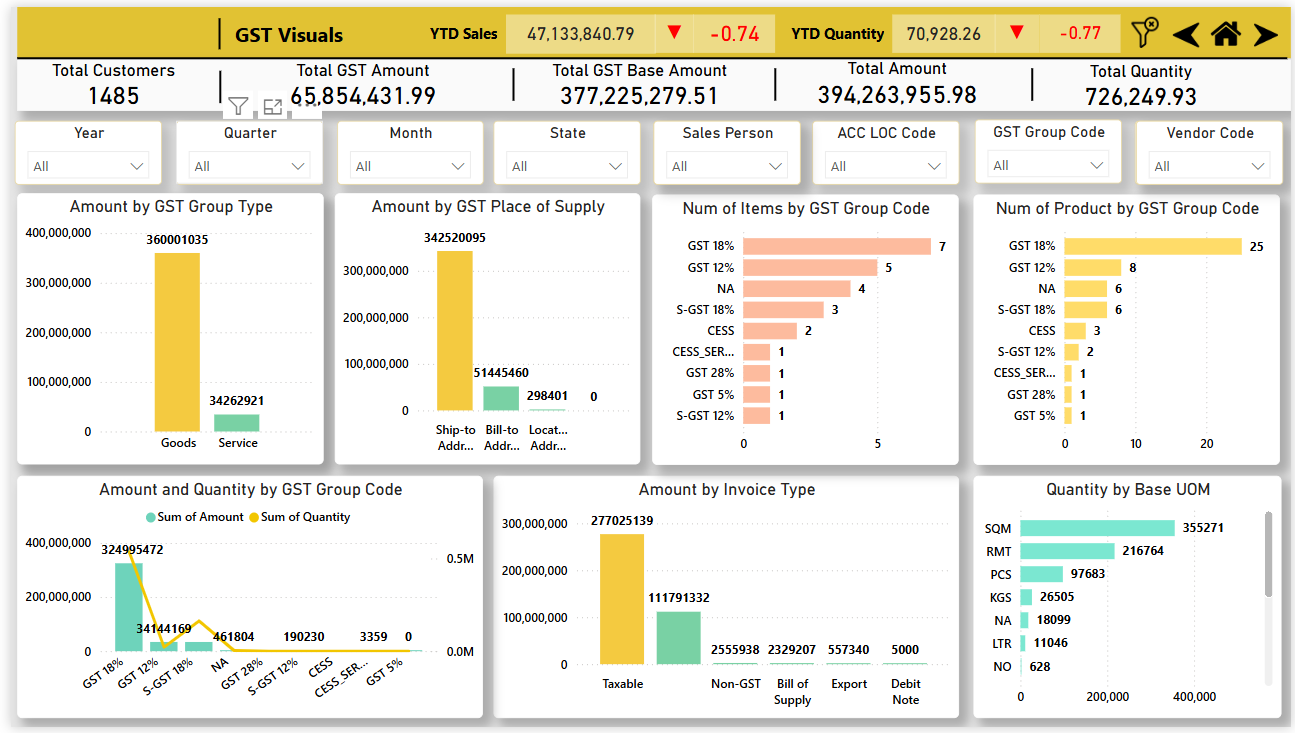

The page's visual inventory and layout, read from the dashboard file:
{"tool":"powerbi","page":{"name":"GST ","canvas":[1280,720],"ordinal":8},"visuals":[{"type":"shape","box":[6.2,0,1273.8,51.2],"z":0},{"type":"shape","box":[6.2,52.5,1273.8,51.2],"z":1000},{"type":"shape","box":[196.6,11.6,24.6,31],"z":2000},{"type":"actionButton","box":[220.3,6.3,205.2,40.3],"z":3000},{"type":"card","fields":{"Values":["Dax.YTD Quantity Indicator"]},"box":[983.8,7.4,44.5,38],"z":3000,"group":"g1"},{"type":"image","box":[1195.1,5.2,40,43.9],"z":4000},{"type":"card","fields":{"Values":["Dax.YTD Sales Indicator"]},"box":[643.6,7.4,39.6,38.4],"z":4000,"group":"g2"},{"type":"image","box":[1156.4,10.3,37.4,36.1],"z":5000},{"type":"card","fields":{"Values":["Dax.YTD Varians in %"]},"box":[682,7.4,81.7,38],"z":5001,"group":"g2"},{"type":"card","fields":{"Values":["Dax.YTD Quantity Variance in %"]},"box":[1028.3,7.4,81,38.4],"z":5002,"group":"g1"},{"type":"image","box":[1235.1,11.6,40,33.6],"z":6000},{"type":"card","title":"Total Amount","fields":{"Values":["Sum(Sales_Data.Amount)"]},"box":[790,51.2,192.5,51.2],"z":7000},{"type":"card","title":"Total Quantity","fields":{"Values":["Sum(Sales_Data.Quantity)"]},"box":[1033.8,53.8,192.5,51.2],"z":8000},{"type":"shape","box":[482.2,61.7,40.3,32.7],"z":9000},{"type":"shape","box":[747.9,61.7,34,32.7],"z":10000},{"type":"shape","box":[192.6,64.2,34,32.7],"z":11000},{"type":"card","title":"Total GST Base Amount","fields":{"Values":["Sum(Sales_Data.GST Base Amount)"]},"box":[532.5,52.5,192.5,51.2],"z":12000},{"type":"slicer","title":"Year","fields":{"Values":["Fiscal Year.Year"]},"box":[3.7,113.7,147.4,63.7],"z":13000},{"type":"slicer","title":"Quarter","fields":{"Values":["Fiscal Year.Quarter"]},"box":[164.9,113.7,147.4,63.7],"z":14000},{"type":"slicer","title":"Month","fields":{"Values":["Fiscal Year.Month"]},"box":[326.1,113.7,146.2,63.7],"z":15000},{"type":"slicer","title":"State","fields":{"Values":["Sales_Data.State"]},"box":[482.2,113.7,147.4,63.7],"z":16000},{"type":"slicer","title":"Product Code","fields":{"Values":["Sales_Data.Product Group Code"]},"box":[642.1,113.7,147.4,63.7],"z":17000},{"type":"slicer","title":"ACC LOC Code","fields":{"Values":["Sales_Data.ACC LOC Code"]},"box":[800.8,113.7,147.4,63.7],"z":18000},{"type":"slicer","title":"GST Group Code","fields":{"Values":["Sales_Data.GST Group Code"]},"box":[963.2,112.4,147.4,63.7],"z":19000},{"type":"slicer","title":"Item Code","fields":{"Values":["Sales_Data.Item Category Code"]},"box":[1124.3,113.7,147.4,63.7],"z":20000},{"type":"card","title":"Total GST Amount","fields":{"Values":["Sum(Sales_Data.Total GST Amount)"]},"box":[255,52.5,193.8,51.2],"z":21000},{"type":"card","title":"Total Customers","fields":{"Values":["Dax.Total Customers"]},"box":[6.2,52.5,192.5,51.2],"z":22000},{"type":"shape","box":[1001,61.7,40.3,32.7],"z":23000},{"type":"columnChart","title":"Amount by GST Group Type","fields":{"Category":["Sales_Data.GST Group Type"],"Y":["Sum(Sales_Data.Amount)"]},"box":[6,186,306.4,271.4],"z":24000},{"type":"columnChart","title":"Amount by GST Place of Supply","fields":{"Category":["Sales_Data.GST Place of Supply"],"Y":["Sum(Sales_Data.Amount)"]},"box":[323.3,186,305.2,271.4],"z":25000},{"type":"columnChart","title":"Amount by Invoice Type","fields":{"Category":["Sales_Data.Invoice Type"],"Y":["Sum(Sales_Data.Amount)"]},"box":[482.6,469.3,465.7,242.5],"z":26000},{"type":"barChart","title":"Num of Items by GST Group Code","fields":{"Y":["Dax.Num of Items"],"Category":["Sales_Data.GST Group Code"]},"box":[641.8,187.2,306.4,270.2],"z":27000},{"type":"barChart","fields":{"Category":["Sales_Data.GST Group Code"],"Y":["Dax.Num of Product"]},"box":[962.7,187.2,306.4,270.2],"z":28000},{"type":"lineStackedColumnComboChart","title":"Amount and Quantity by GST Group Code","fields":{"Category":["Sales_Data.GST Group Code"],"Y":["Sum(Sales_Data.Amount)"],"Y2":["Sum(Sales_Data.Quantity)"]},"box":[6,469.3,465.7,242.5],"z":29000},{"type":"barChart","title":"Quantity by Base UOM","fields":{"Category":["Sales_Data.Base UOM"],"Y":["Sum(Sales_Data.Quantity)"]},"box":[962.7,469.3,307.6,242.5],"z":30000},{"type":"card","fields":{"Values":["Dax.YTD Sales"]},"box":[494.9,7.4,149.7,39.6],"z":31000},{"type":"card","fields":{"Values":["Dax.YTD Quantity"]},"box":[880.7,7.8,103.2,38.7],"z":32000},{"type":"actionButton","box":[414.5,6.2,80.4,39.6],"z":33000},{"type":"actionButton","box":[776.4,6.3,102.7,39.6],"z":34000},{"type":"group","id":"g1","title":"Group 1","box":[983.8,7.4,125.5,38.4],"z":35000},{"type":"group","id":"g2","title":"Group 2","box":[643.6,7.4,120,38.4],"z":36000},{"type":"image","box":[1110.9,5.2,45.3,41.4],"z":37000},{"type":"shape","box":[6.2,45,1270,12.5],"z":39000},{"type":"slicer","title":"Sales Person","fields":{"Values":["Sales_Data.Sales Person"]},"box":[642.9,113.8,147.4,63.7],"z":40000},{"type":"slicer","title":"Vendor Code","fields":{"Values":["Sales_Data.Vendor Code"]},"box":[1125.2,113.8,147.4,63.7],"z":41000}]}

Visuals, with their boxes in screenshot pixels (x1, y1, x2, y2), scaled from the page's 1280x720 canvas onto the 1295x733 screenshot:
shape: bbox=[6, 0, 1294, 52]
shape: bbox=[6, 53, 1294, 106]
shape: bbox=[199, 12, 224, 43]
actionButton: bbox=[223, 6, 430, 47]
card - Dax.YTD Quantity Indicator: bbox=[995, 8, 1040, 46]
image: bbox=[1209, 5, 1250, 50]
card - Dax.YTD Sales Indicator: bbox=[651, 8, 691, 47]
image: bbox=[1170, 10, 1208, 47]
card - Dax.YTD Varians in %: bbox=[690, 8, 773, 46]
card - Dax.YTD Quantity Variance in %: bbox=[1040, 8, 1122, 47]
image: bbox=[1250, 12, 1290, 46]
"Total Amount" card: bbox=[799, 52, 994, 104]
"Total Quantity" card: bbox=[1046, 55, 1241, 107]
shape: bbox=[488, 63, 529, 96]
shape: bbox=[757, 63, 791, 96]
shape: bbox=[195, 65, 229, 99]
"Total GST Base Amount" card: bbox=[539, 53, 733, 106]
"Year" slicer: bbox=[4, 116, 153, 181]
"Quarter" slicer: bbox=[167, 116, 316, 181]
"Month" slicer: bbox=[330, 116, 478, 181]
"State" slicer: bbox=[488, 116, 637, 181]
"Product Code" slicer: bbox=[650, 116, 799, 181]
"ACC LOC Code" slicer: bbox=[810, 116, 959, 181]
"GST Group Code" slicer: bbox=[974, 114, 1124, 179]
"Item Code" slicer: bbox=[1137, 116, 1287, 181]
"Total GST Amount" card: bbox=[258, 53, 454, 106]
"Total Customers" card: bbox=[6, 53, 201, 106]
shape: bbox=[1013, 63, 1054, 96]
"Amount by GST Group Type" columnChart: bbox=[6, 189, 316, 466]
"Amount by GST Place of Supply" columnChart: bbox=[327, 189, 636, 466]
"Amount by Invoice Type" columnChart: bbox=[488, 478, 959, 725]
"Num of Items by GST Group Code" barChart: bbox=[649, 191, 959, 466]
barChart - Sales_Data.GST Group Code x Dax.Num of Product: bbox=[974, 191, 1284, 466]
"Amount and Quantity by GST Group Code" lineStackedColumnComboChart: bbox=[6, 478, 477, 725]
"Quantity by Base UOM" barChart: bbox=[974, 478, 1285, 725]
card - Dax.YTD Sales: bbox=[501, 8, 652, 48]
card - Dax.YTD Quantity: bbox=[891, 8, 995, 47]
actionButton: bbox=[419, 6, 501, 47]
actionButton: bbox=[785, 6, 889, 47]
"Group 1" group: bbox=[995, 8, 1122, 47]
"Group 2" group: bbox=[651, 8, 773, 47]
image: bbox=[1124, 5, 1170, 47]
shape: bbox=[6, 46, 1291, 59]
"Sales Person" slicer: bbox=[650, 116, 800, 181]
"Vendor Code" slicer: bbox=[1138, 116, 1288, 181]
